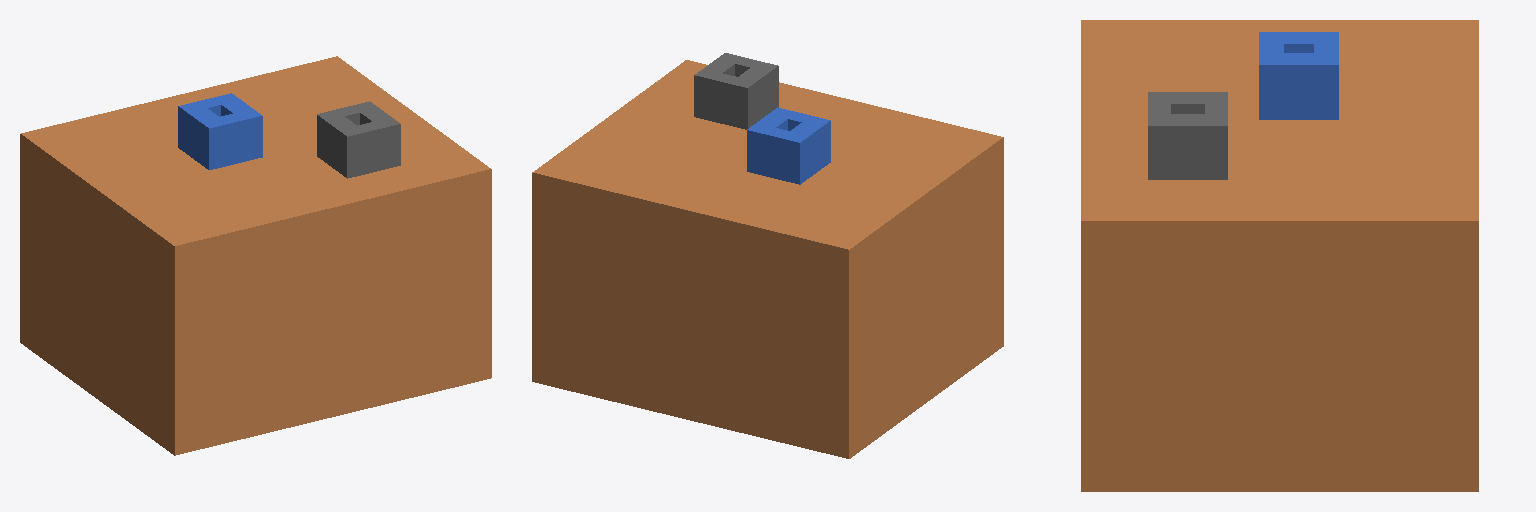
robot.urdf — peg_in_hole_fixtured_scene_0034_peg0006_tol03:
<?xml version="1.0"?>
<robot name="peg_in_hole_fixtured_scene_0034_peg0006_tol03">
  <material name="wood"><color rgba="0.82 0.56 0.35 1.0"/></material>
  <material name="start_fix"><color rgba="0.30 0.50 0.85 1.0"/></material>
  <material name="goal_fix"><color rgba="0.4706 0.4706 0.4706 1.0"/></material>
  <link name="box">
    <visual>
      <origin xyz="0.000000 0.000000 0.000000" rpy="0 0 0"/>
      <geometry><box size="0.475000 0.400000 0.300000"/></geometry>
      <material name="wood"/>
    </visual>
    <collision>
      <origin xyz="0.000000 0.000000 0.000000" rpy="0 0 0"/>
      <geometry><box size="0.475000 0.400000 0.300000"/></geometry>
    </collision>
    <visual>
      <origin xyz="-0.042257 0.019113 0.155000" rpy="0 0 0"/>
      <geometry><box size="0.080000 0.080000 0.010000"/></geometry>
      <material name="start_fix"/>
    </visual>
    <collision>
      <origin xyz="-0.042257 0.019113 0.155000" rpy="0 0 0"/>
      <geometry><box size="0.080000 0.080000 0.010000"/></geometry>
    </collision>
    <visual>
      <origin xyz="-0.017007 0.019113 0.185000" rpy="0 0 0"/>
      <geometry><box size="0.029500 0.080000 0.050000"/></geometry>
      <material name="start_fix"/>
    </visual>
    <collision>
      <origin xyz="-0.017007 0.019113 0.185000" rpy="0 0 0"/>
      <geometry><box size="0.029500 0.080000 0.050000"/></geometry>
    </collision>
    <visual>
      <origin xyz="-0.067507 0.019113 0.185000" rpy="0 0 0"/>
      <geometry><box size="0.029500 0.080000 0.050000"/></geometry>
      <material name="start_fix"/>
    </visual>
    <collision>
      <origin xyz="-0.067507 0.019113 0.185000" rpy="0 0 0"/>
      <geometry><box size="0.029500 0.080000 0.050000"/></geometry>
    </collision>
    <visual>
      <origin xyz="-0.042257 0.046863 0.185000" rpy="0 0 0"/>
      <geometry><box size="0.021000 0.024500 0.050000"/></geometry>
      <material name="start_fix"/>
    </visual>
    <collision>
      <origin xyz="-0.042257 0.046863 0.185000" rpy="0 0 0"/>
      <geometry><box size="0.021000 0.024500 0.050000"/></geometry>
    </collision>
    <visual>
      <origin xyz="-0.042257 -0.008637 0.185000" rpy="0 0 0"/>
      <geometry><box size="0.021000 0.024500 0.050000"/></geometry>
      <material name="start_fix"/>
    </visual>
    <collision>
      <origin xyz="-0.042257 -0.008637 0.185000" rpy="0 0 0"/>
      <geometry><box size="0.021000 0.024500 0.050000"/></geometry>
    </collision>
    <visual>
      <origin xyz="0.100572 -0.092360 0.155000" rpy="0 0 0"/>
      <geometry><box size="0.080000 0.080000 0.010000"/></geometry>
      <material name="goal_fix"/>
    </visual>
    <collision>
      <origin xyz="0.100572 -0.092360 0.155000" rpy="0 0 0"/>
      <geometry><box size="0.080000 0.080000 0.010000"/></geometry>
    </collision>
    <visual>
      <origin xyz="0.126389 -0.092360 0.185000" rpy="0 0 0"/>
      <geometry><box size="0.028366 0.080000 0.050000"/></geometry>
      <material name="goal_fix"/>
    </visual>
    <collision>
      <origin xyz="0.126389 -0.092360 0.185000" rpy="0 0 0"/>
      <geometry><box size="0.028366 0.080000 0.050000"/></geometry>
    </collision>
    <visual>
      <origin xyz="0.074755 -0.092360 0.185000" rpy="0 0 0"/>
      <geometry><box size="0.028366 0.080000 0.050000"/></geometry>
      <material name="goal_fix"/>
    </visual>
    <collision>
      <origin xyz="0.074755 -0.092360 0.185000" rpy="0 0 0"/>
      <geometry><box size="0.028366 0.080000 0.050000"/></geometry>
    </collision>
    <visual>
      <origin xyz="0.100572 -0.064043 0.185000" rpy="0 0 0"/>
      <geometry><box size="0.023268 0.023366 0.050000"/></geometry>
      <material name="goal_fix"/>
    </visual>
    <collision>
      <origin xyz="0.100572 -0.064043 0.185000" rpy="0 0 0"/>
      <geometry><box size="0.023268 0.023366 0.050000"/></geometry>
    </collision>
    <visual>
      <origin xyz="0.100572 -0.120677 0.185000" rpy="0 0 0"/>
      <geometry><box size="0.023268 0.023366 0.050000"/></geometry>
      <material name="goal_fix"/>
    </visual>
    <collision>
      <origin xyz="0.100572 -0.120677 0.185000" rpy="0 0 0"/>
      <geometry><box size="0.023268 0.023366 0.050000"/></geometry>
    </collision>
    <inertial>
      <mass value="500"/>
      <friction value="1.0"/>
      <inertia ixx="1000.0" ixy="0.0" ixz="0.0" iyy="1000.0" iyz="0.0" izz="1000.0"/>
    </inertial>
  </link>
</robot>

--- What the picture shows (computed from the rendered views, not written in the file) ---
Views: 3 orthographic renders of the robot side by side, from view 1: azimuth 30°, elevation 25°; view 2: azimuth 150°, elevation 25°; view 3: azimuth 270°, elevation 25°.
Robot: peg_in_hole_fixtured_scene_0034_peg0006_tol03 — 1 links, 0 joints (none); root link box; default pose: all joints at 0.
Visible links, largest first — view 1: box; view 2: box; view 3: box.
Link boxes in pixels (x1,y1,x2,y2): box: (20,56,491,455); box: (532,53,1003,458); box: (1081,20,1478,491).
Size in the robot's own frame: 0.475 by 0.4 by 0.36 metres.
Geometry: primitives only (box / cylinder / sphere), no mesh files.
